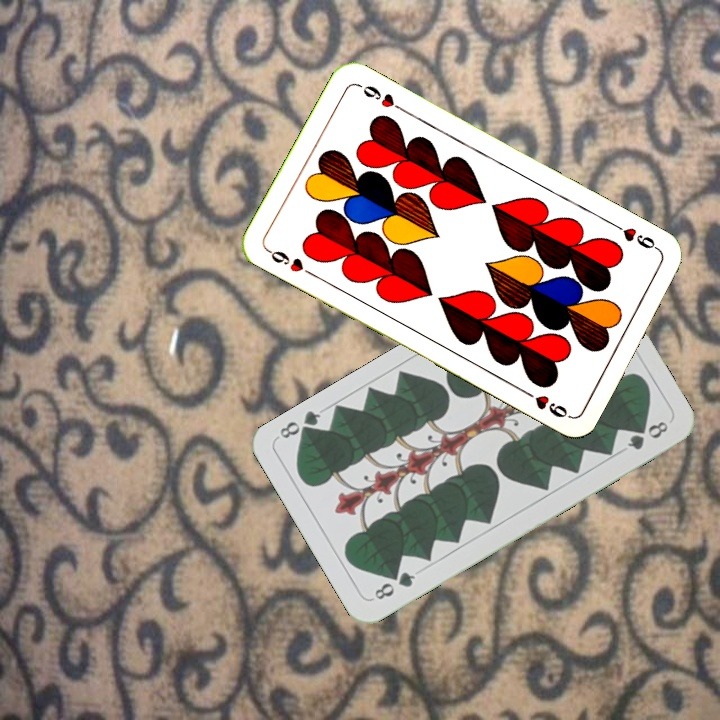G8: (370, 567, 418, 603)
H9: (608, 219, 663, 254), (263, 245, 318, 279)
